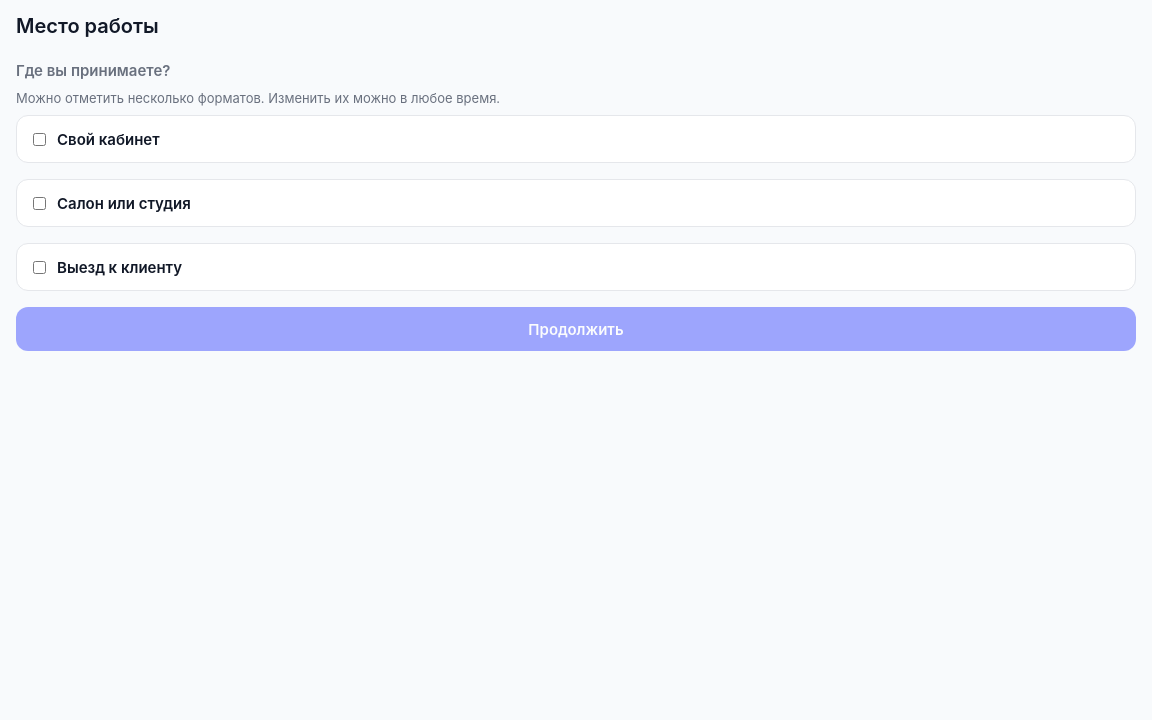
Test: подсказки адреса › 200 → подсказки; выбор подставляет адрес и убирает список
Click the checkbox labelled "Салон или студия" at (40, 203), box top-left (33, 197), bottom-right (46, 210)
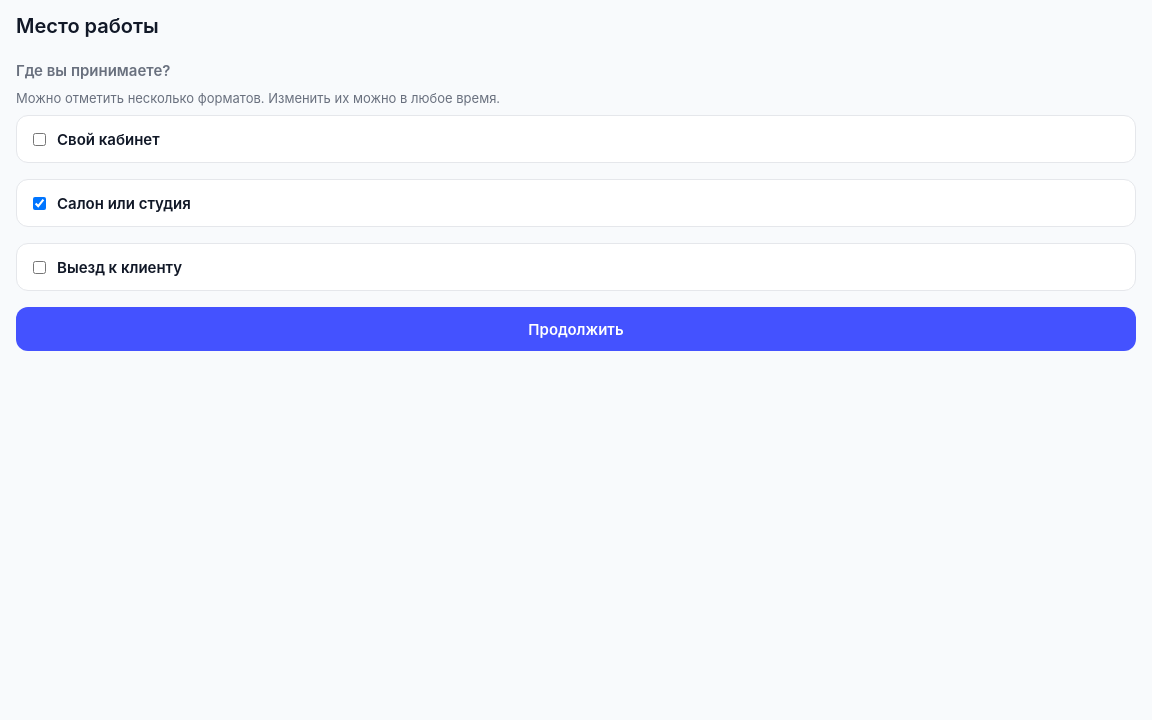
Click the button "Продолжить" at (576, 329), box top-left (16, 307), bottom-right (1136, 351)
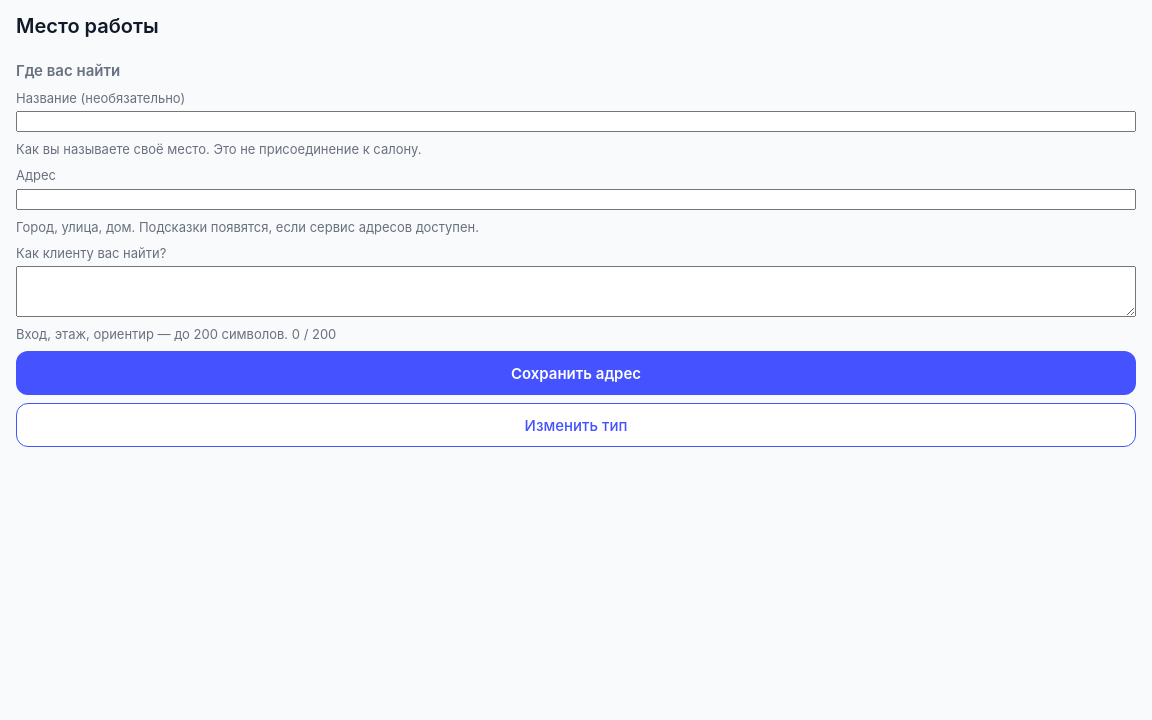
Type "Тверск" into the field labelled "Адрес" at (576, 199), box top-left (16, 189), bottom-right (1136, 210)
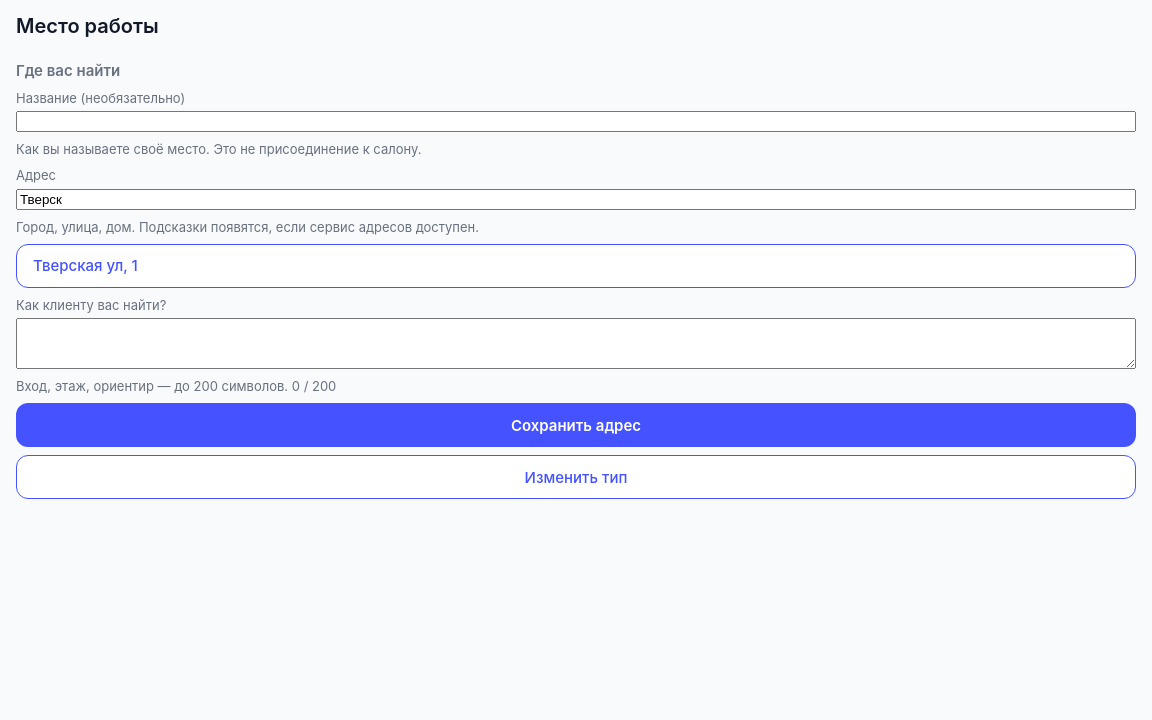
Click the button "Тверская ул, 1" at (85, 266), box top-left (16, 244), bottom-right (1136, 288)
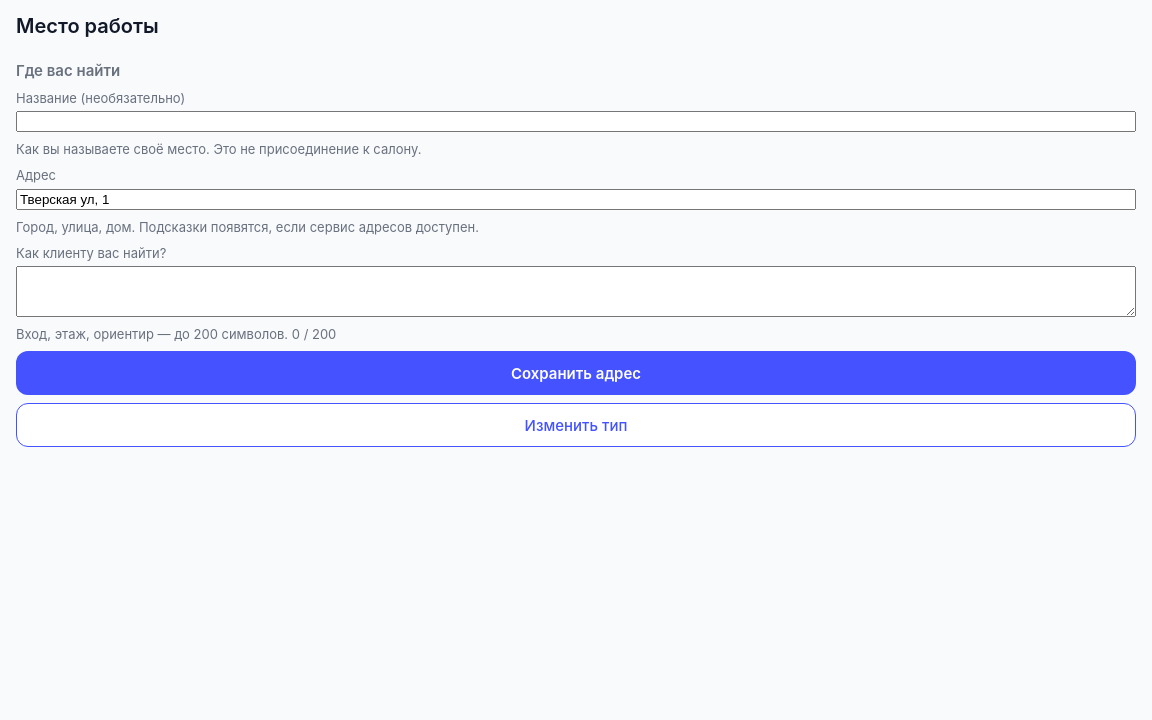
Now the field labelled "Адрес" holds "Тверская ул, 1", box top-left (16, 189), bottom-right (1136, 210)
Now the list is gone
